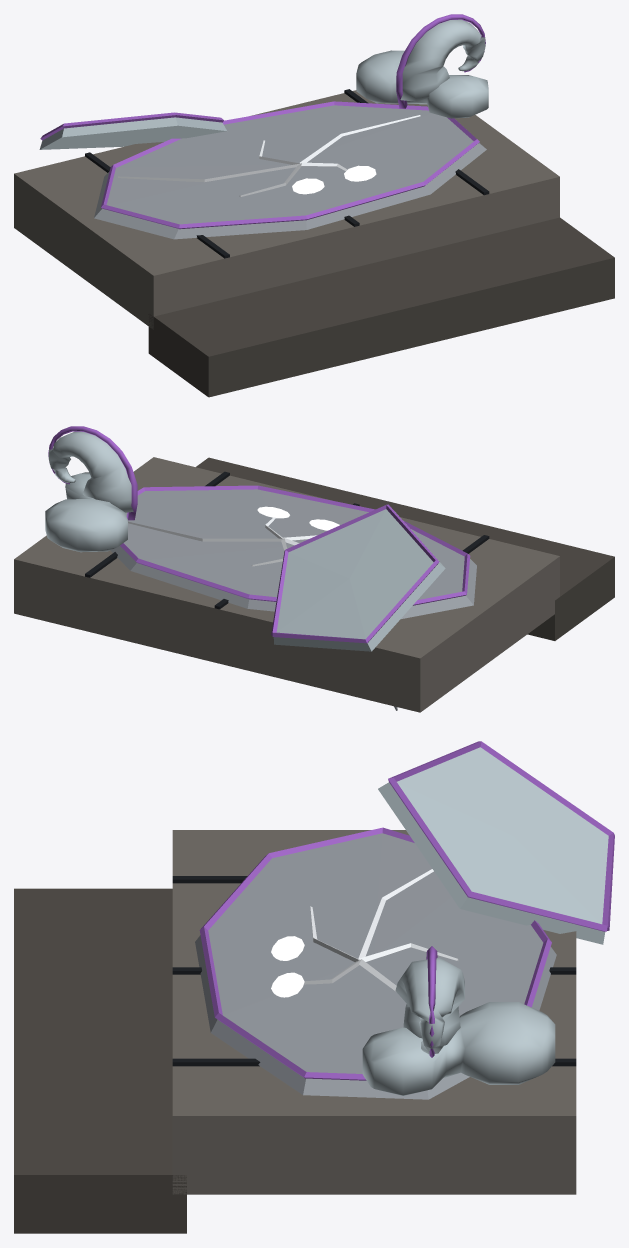
File: fog-black-ice.glb
The picture shows the model from 3 angles, top to bottom: view 1: azimuth 30°, elevation 25°; view 2: azimuth 150°, elevation 25°; view 3: azimuth 270°, elevation 25°; orthographic projection. The views are drawn at different scales.
Parts seen in each view (by area): view 1: fog_black_ice, sway_curl_b, pulse_fog, blink_eyes; view 2: fog_black_ice, sway_curl_b, pulse_fog, blink_eyes; view 3: fog_black_ice, pulse_fog, sway_curl_b, blink_eyes.
Part boxes in pixels (x1=…): fog_black_ice: x1=14, y1=89, x2=614, y2=397; sway_curl_b: x1=396, y1=14, x2=485, y2=108; pulse_fog: x1=356, y1=50, x2=488, y2=118; blink_eyes: x1=292, y1=165, x2=376, y2=194; fog_black_ice: x1=14, y1=457, x2=614, y2=712; sway_curl_b: x1=48, y1=426, x2=137, y2=520; pulse_fog: x1=45, y1=472, x2=127, y2=552; blink_eyes: x1=257, y1=506, x2=339, y2=530; fog_black_ice: x1=14, y1=741, x2=614, y2=1233; pulse_fog: x1=362, y1=1002, x2=555, y2=1095; sway_curl_b: x1=395, y1=946, x2=464, y2=1057; blink_eyes: x1=271, y1=936, x2=304, y2=997.
Bounding box in the file's own units: 0.9764 × 0.4851 × 0.8339.
